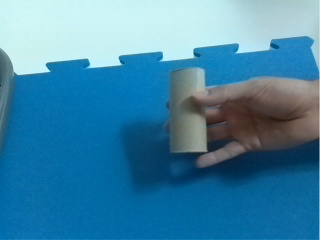rollo papel: (171, 67, 209, 153)
